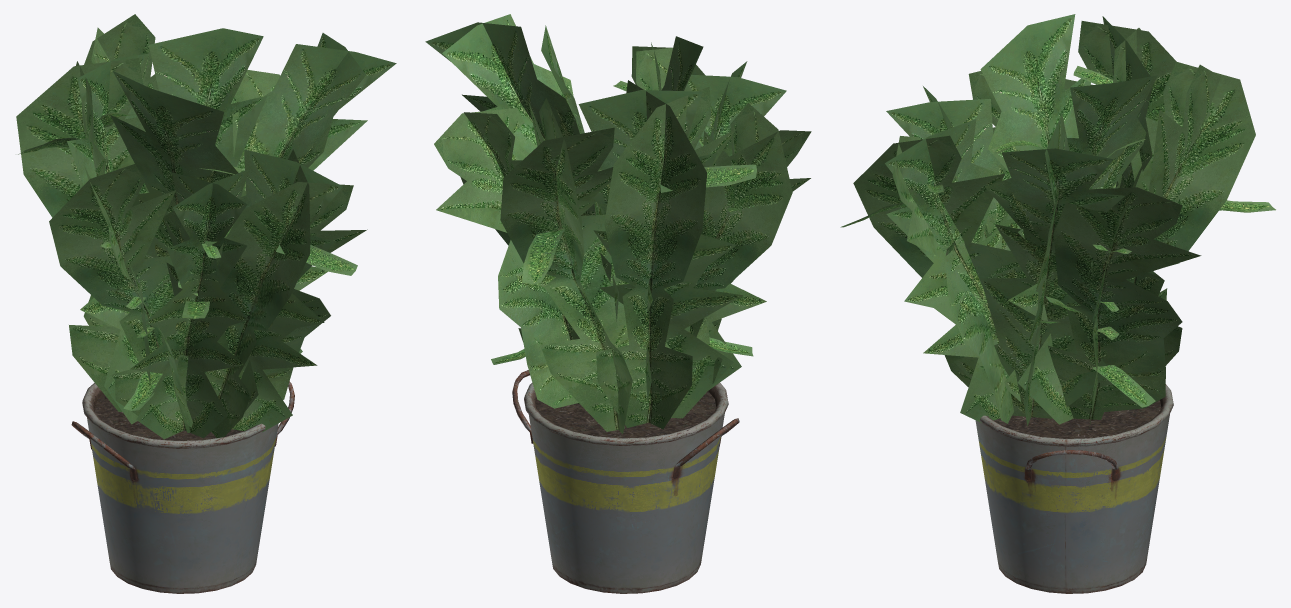
Rendered from 001_Green_Herb.fbx.
3 views of the same model, side by side, from view 1: azimuth 30°, elevation 25°; view 2: azimuth 150°, elevation 25°; view 3: azimuth 270°, elevation 25° (orthographic).
Parts seen in each view (by area): view 1: LOD_1_Group_0_Sub_2__lambert6_Mat__Env_AlphaTest, LOD_1_Group_2_Sub_1__sm70_002_RedHerb01A_B_Mat__Env_Default, LOD_1_Group_1_Sub_1__sm70_002_RedHerb01A_B_Mat__Env_Default, LOD_1_Group_0_Sub_1__sm70_002_RedHerb01A_B_Mat__Env_Default; view 2: LOD_1_Group_0_Sub_2__lambert6_Mat__Env_AlphaTest, LOD_1_Group_2_Sub_1__sm70_002_RedHerb01A_B_Mat__Env_Default, LOD_1_Group_1_Sub_1__sm70_002_RedHerb01A_B_Mat__Env_Default, LOD_1_Group_0_Sub_1__sm70_002_RedHerb01A_B_Mat__Env_Default; view 3: LOD_1_Group_0_Sub_2__lambert6_Mat__Env_AlphaTest, LOD_1_Group_2_Sub_1__sm70_002_RedHerb01A_B_Mat__Env_Default, LOD_1_Group_1_Sub_1__sm70_002_RedHerb01A_B_Mat__Env_Default, LOD_1_Group_0_Sub_1__sm70_002_RedHerb01A_B_Mat__Env_Default.
Boxes of the visible parts, bbox=[...] form: LOD_1_Group_0_Sub_2__lambert6_Mat__Env_AlphaTest: bbox=[16, 14, 396, 439]; LOD_1_Group_2_Sub_1__sm70_002_RedHerb01A_B_Mat__Env_Default: bbox=[82, 382, 278, 593]; LOD_1_Group_1_Sub_1__sm70_002_RedHerb01A_B_Mat__Env_Default: bbox=[94, 394, 243, 440]; LOD_1_Group_0_Sub_1__sm70_002_RedHerb01A_B_Mat__Env_Default: bbox=[71, 381, 294, 480]; LOD_1_Group_0_Sub_2__lambert6_Mat__Env_AlphaTest: bbox=[425, 14, 811, 433]; LOD_1_Group_2_Sub_1__sm70_002_RedHerb01A_B_Mat__Env_Default: bbox=[524, 382, 728, 593]; LOD_1_Group_1_Sub_1__sm70_002_RedHerb01A_B_Mat__Env_Default: bbox=[536, 391, 716, 438]; LOD_1_Group_0_Sub_1__sm70_002_RedHerb01A_B_Mat__Env_Default: bbox=[512, 370, 739, 478]; LOD_1_Group_0_Sub_2__lambert6_Mat__Env_AlphaTest: bbox=[840, 14, 1275, 426]; LOD_1_Group_2_Sub_1__sm70_002_RedHerb01A_B_Mat__Env_Default: bbox=[975, 384, 1173, 593]; LOD_1_Group_1_Sub_1__sm70_002_RedHerb01A_B_Mat__Env_Default: bbox=[994, 400, 1161, 438]; LOD_1_Group_0_Sub_1__sm70_002_RedHerb01A_B_Mat__Env_Default: bbox=[1025, 450, 1118, 480].
Size of the model in its own units: 0.5006 by 0.6853 by 0.5266.
